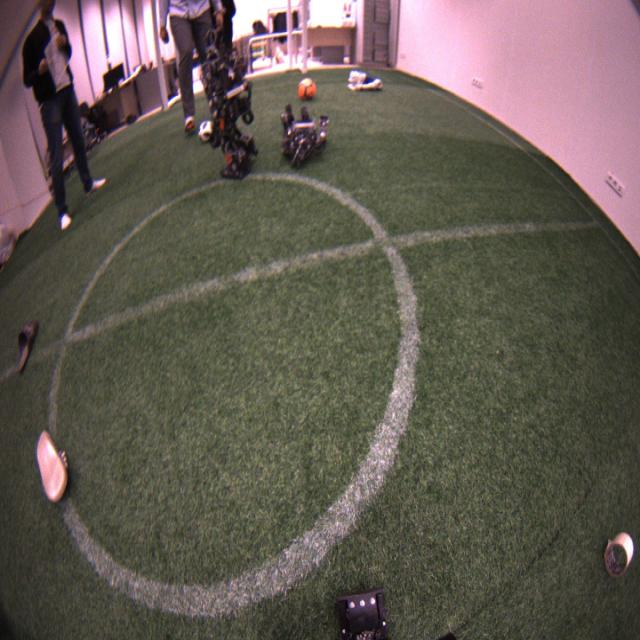ball: (299, 77, 316, 103), (198, 119, 215, 144)
goalpost: (150, 0, 170, 110), (300, 0, 308, 73)
